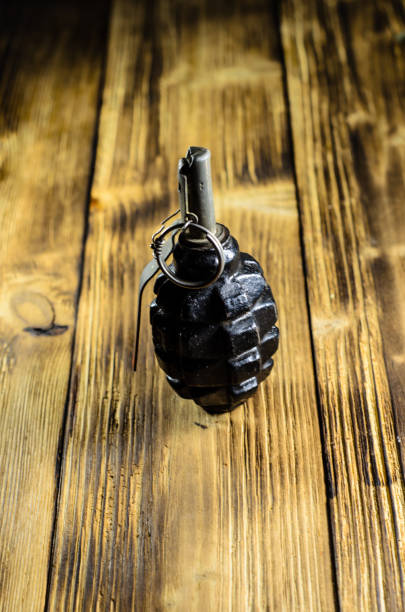e1: (134, 145, 281, 418)
